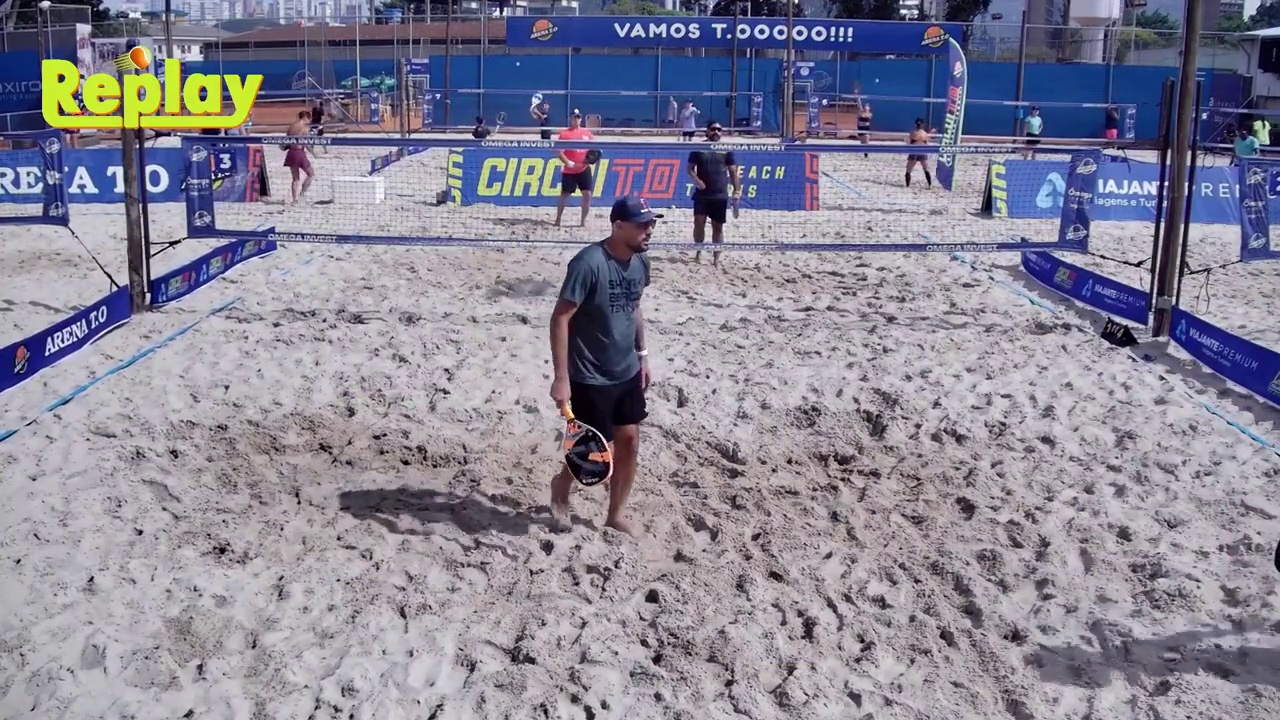court_line: (631, 0, 795, 482)
